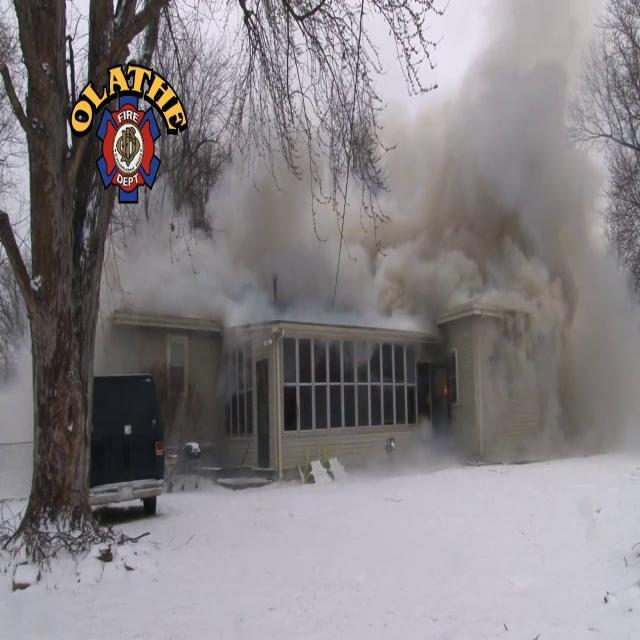Smoke: (138, 9, 640, 462)
